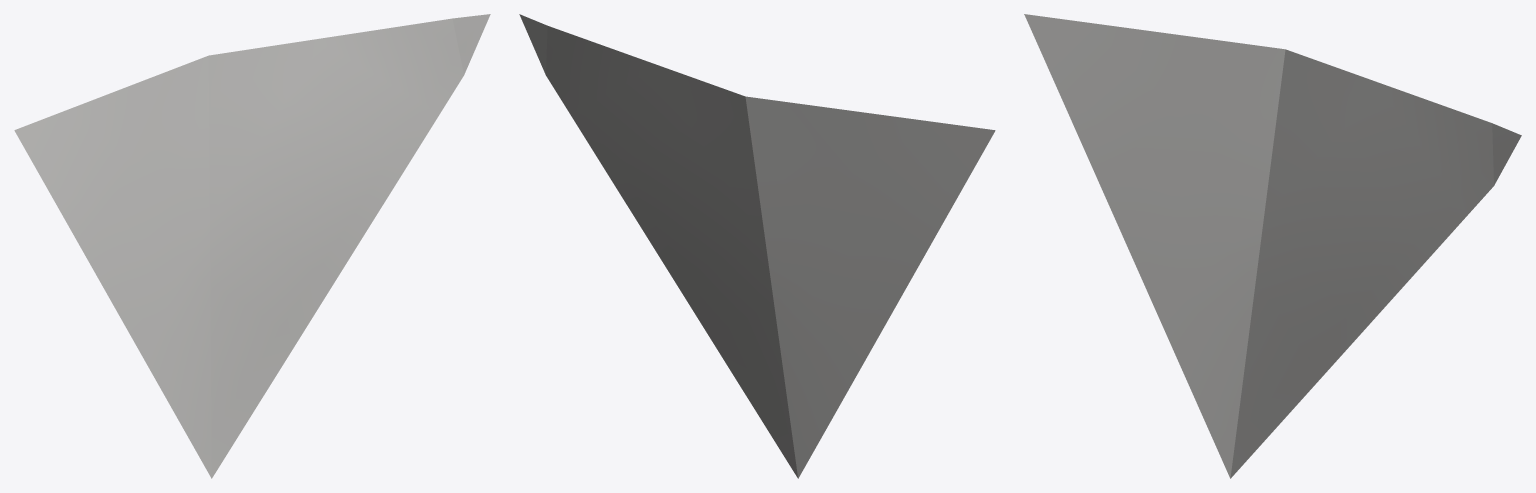
The picture shows the model from 3 angles, left to right: view 1: azimuth 30°, elevation 25°; view 2: azimuth 150°, elevation 25°; view 3: azimuth 330°, elevation 25°; orthographic projection. The views are drawn at different scales.
Size of the model in its own units: 0.0939 by 0.0747 by 0.00954.
Materials: 1 (1 with a texture image).
